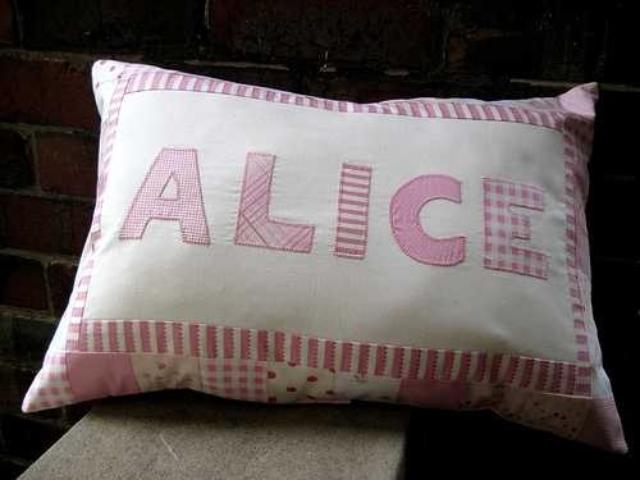pillow: (21, 58, 627, 454)
